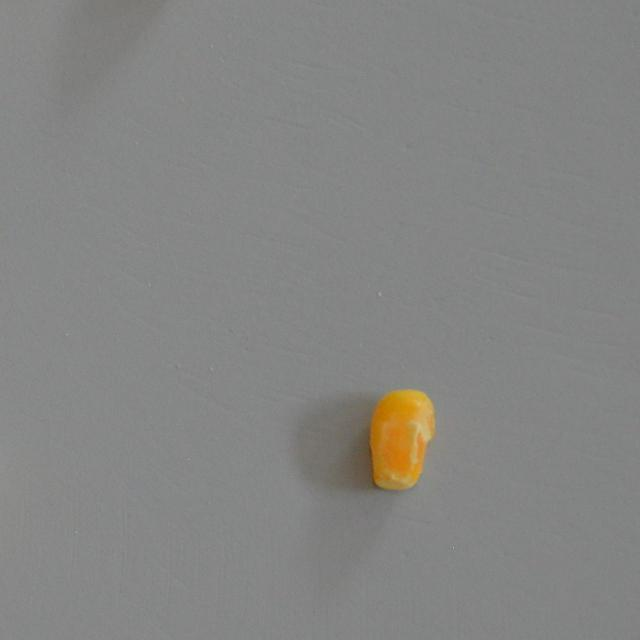pelicula: (365, 390, 436, 492)
